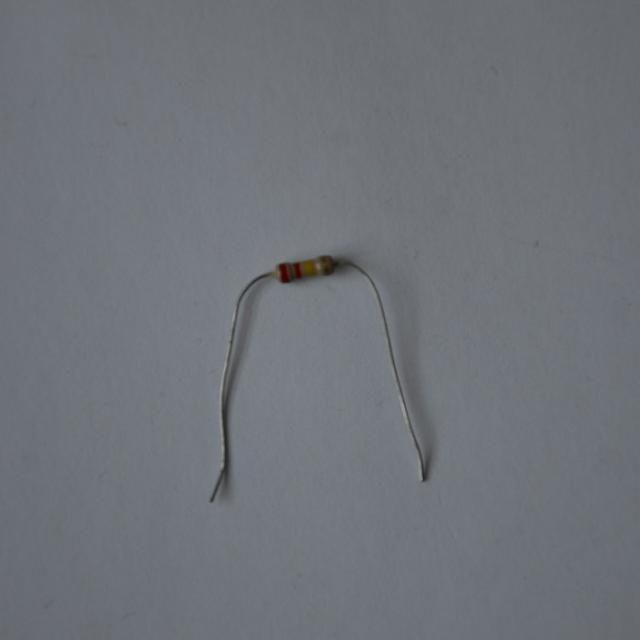gold: (320, 256, 330, 272)
red: (281, 263, 288, 283), (294, 263, 300, 278)
resistor: (264, 254, 353, 287)
yellow: (305, 260, 312, 275)
